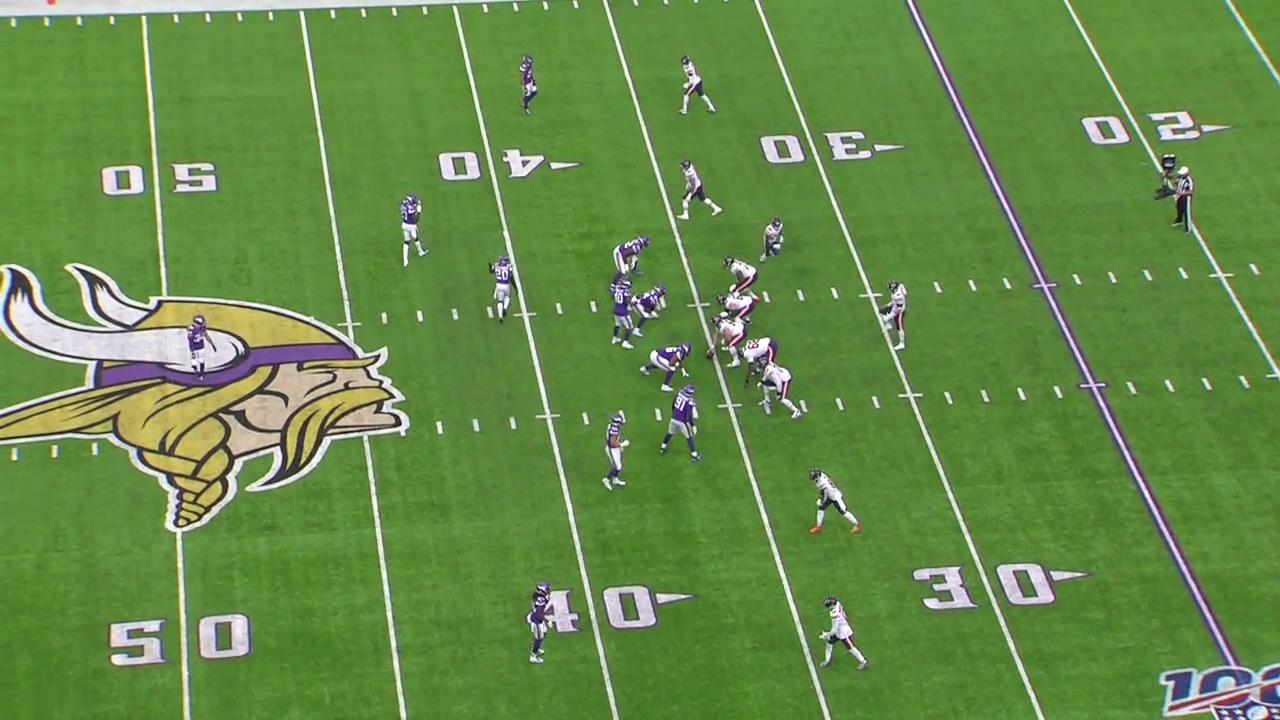player: (807, 465, 864, 539), (816, 598, 872, 672), (656, 381, 703, 464), (676, 158, 728, 223), (638, 339, 699, 393), (754, 355, 802, 421), (521, 581, 557, 668), (485, 253, 524, 327), (396, 191, 429, 268), (735, 335, 782, 389), (705, 312, 750, 368), (602, 414, 632, 497), (608, 276, 641, 350), (878, 279, 911, 353), (185, 312, 218, 385), (679, 56, 718, 116), (609, 232, 652, 285), (722, 252, 762, 307), (630, 284, 668, 338), (755, 215, 788, 268), (714, 291, 756, 328), (517, 53, 539, 116)
ref: (1170, 167, 1196, 237)
